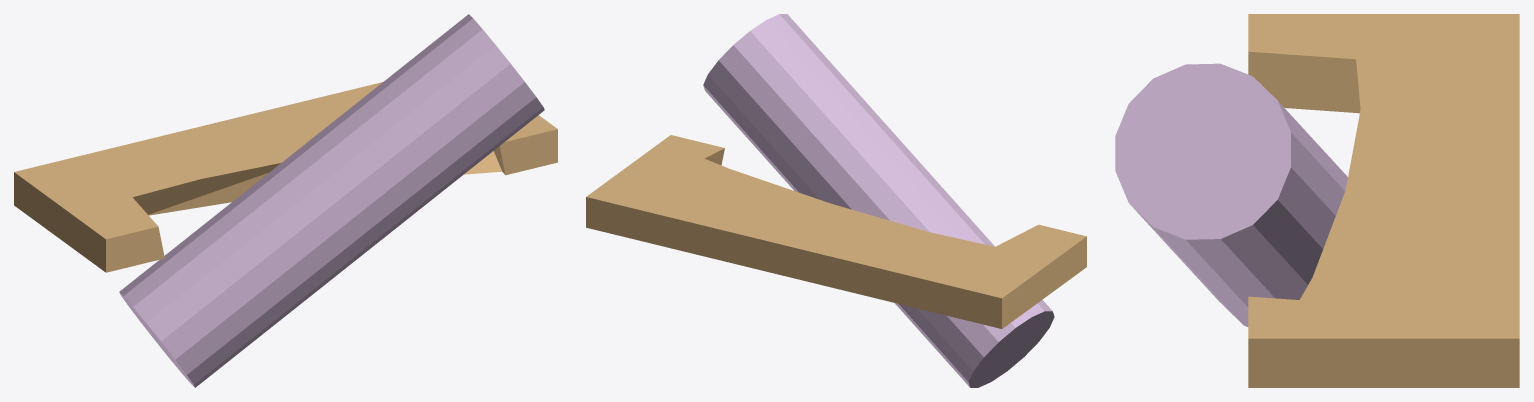
File: saddle_demo.glb
The picture shows the model from 3 angles, left to right: view 1: azimuth 30°, elevation 25°; view 2: azimuth 150°, elevation 25°; view 3: azimuth 270°, elevation 25°; orthographic projection. The views are drawn at different scales.
Parts seen in each view (by area): view 1: cylinder_reference, saddle_rib; view 2: saddle_rib, cylinder_reference; view 3: saddle_rib, cylinder_reference.
Boxes of the visible parts, bbox=[...] form: cylinder_reference: bbox=[119, 14, 544, 387]; saddle_rib: bbox=[14, 82, 557, 272]; saddle_rib: bbox=[586, 135, 1086, 328]; cylinder_reference: bbox=[703, 14, 1054, 387]; saddle_rib: bbox=[1248, 14, 1519, 387]; cylinder_reference: bbox=[1115, 63, 1347, 326].
Bounding box in the file's own units: 34 × 22.65 × 17.89.
